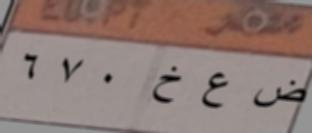0: (99, 68, 117, 88)
6: (20, 47, 42, 87)
7: (59, 53, 86, 88)
ain: (199, 64, 230, 116)
daad: (252, 69, 307, 116)
khaa: (150, 61, 182, 115)
